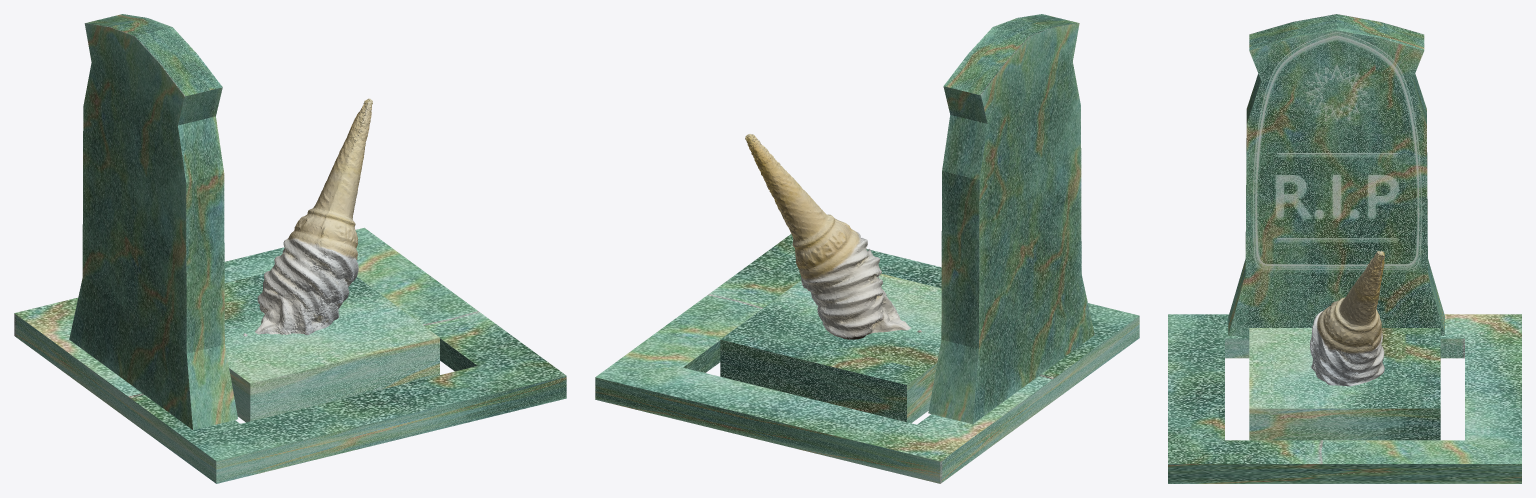
Rendered from meme5.glb.
3 renders of one model, left to right at view 1: azimuth 30°, elevation 25°; view 2: azimuth 150°, elevation 25°; view 3: azimuth 270°, elevation 25°, orthographic. The views are drawn at different scales.
Visible parts, largest first — view 1: Cube.025, Cube.029, Cube.028, Model_material0_0; view 2: Cube.025, Cube.029, Cube.028, Model_material0_0; view 3: Cube.025, Cube.029, Cube.028, Model_material0_0.
Boxes of the visible parts, x1,y1,x2,y2 form: Cube.025: (69,14,237,429); Cube.029: (14,227,566,483); Cube.028: (224,273,439,422); Model_material0_0: (243,98,372,336); Cube.025: (928,14,1094,424); Cube.029: (595,234,1139,483); Cube.028: (720,274,941,423); Model_material0_0: (745,134,921,339); Cube.025: (1228,14,1444,335); Cube.029: (1168,314,1521,483); Cube.028: (1249,328,1440,440); Model_material0_0: (1310,251,1384,386).
Bounding box in the file's own units: 0.7549 × 0.7688 × 0.7549.
3 materials, 2 textured.
